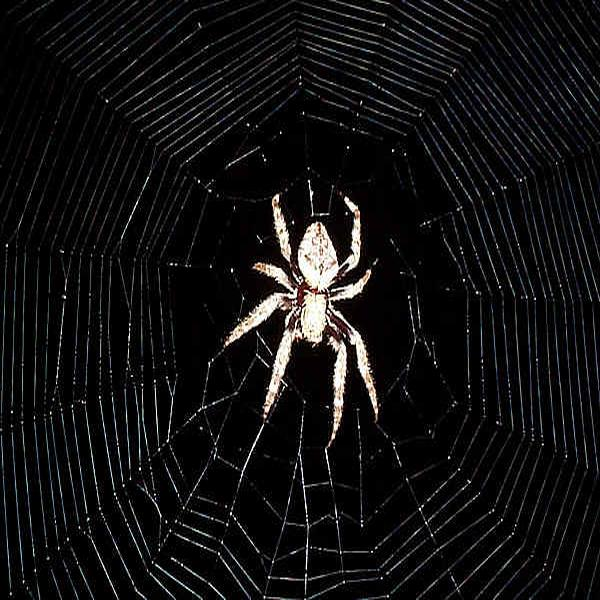Garden_Orb_Weaver_Spider: (222, 194, 378, 449)
